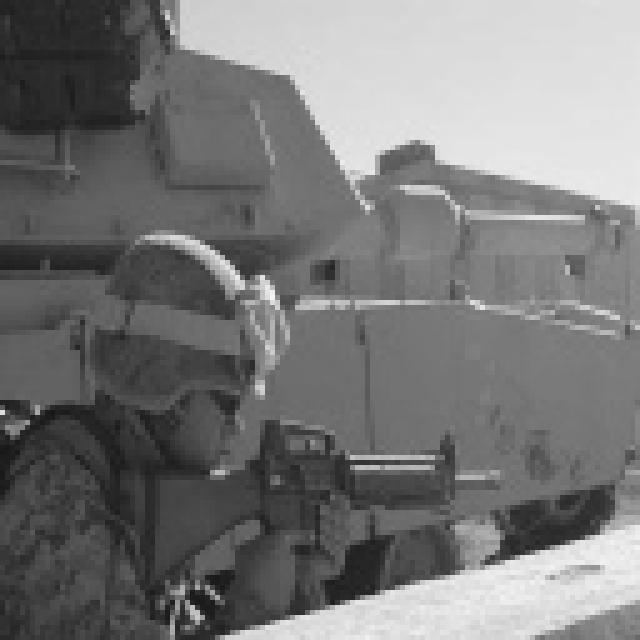Rifle: (124, 393, 535, 589)
